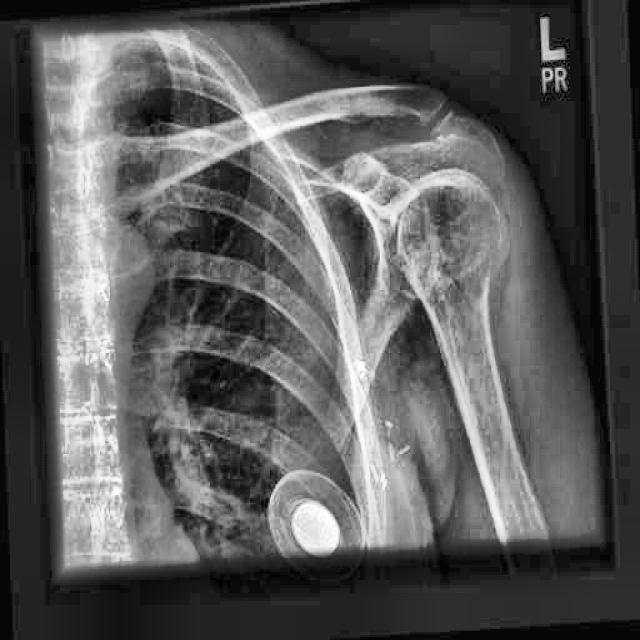shoulder fracture: (402, 85, 475, 159)
